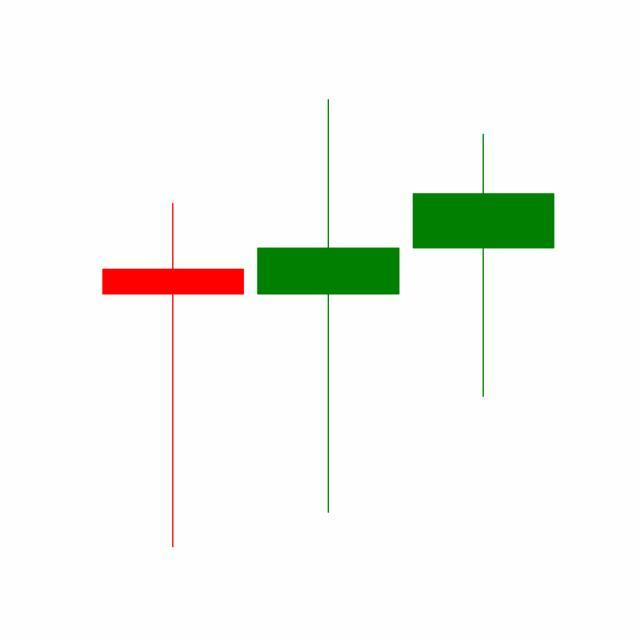Spinning Top: (250, 95, 407, 518)
